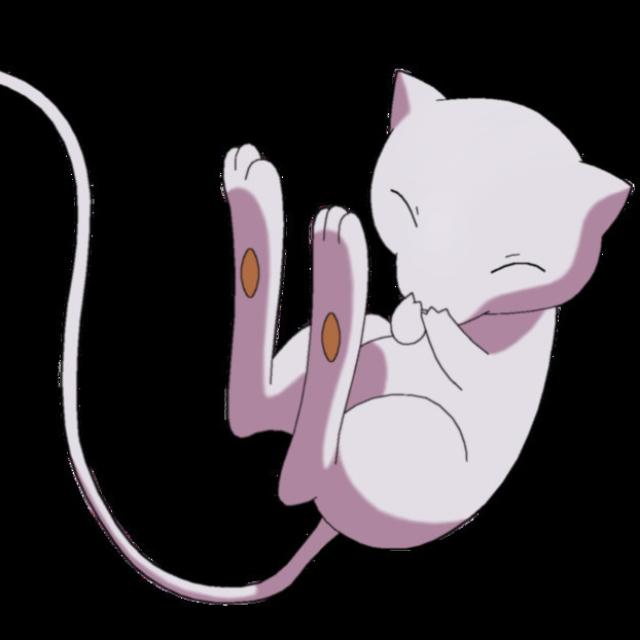Mew: (214, 72, 610, 545)
